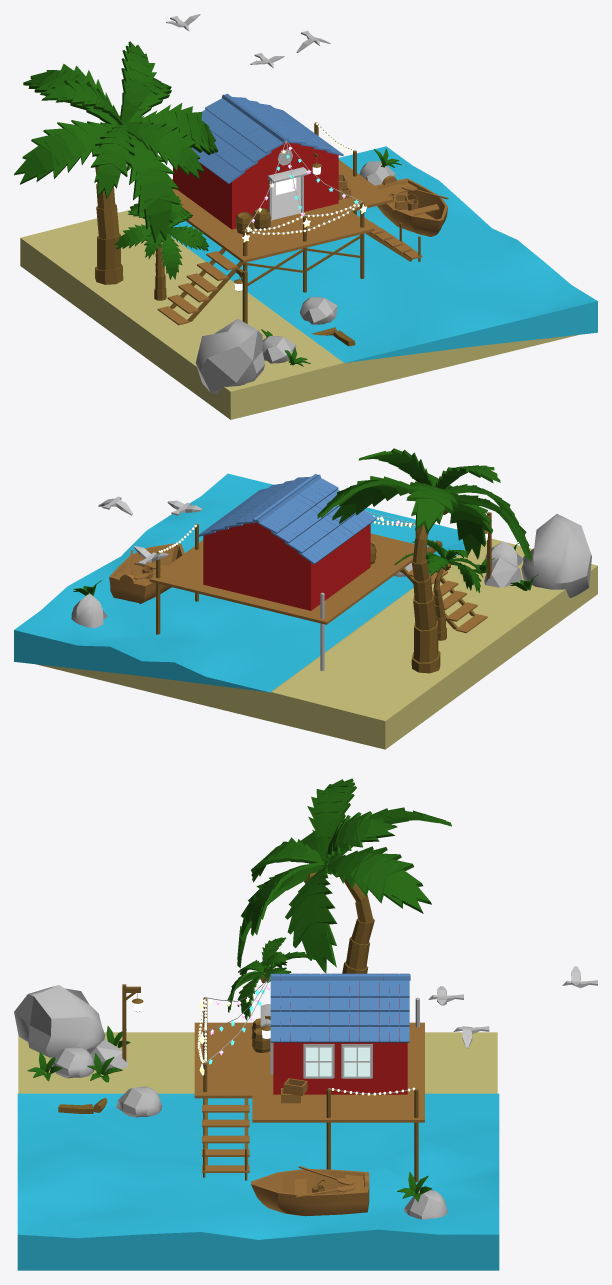
File: beach-house.glb
3 renders of one model, top to bottom at view 1: azimuth 30°, elevation 25°; view 2: azimuth 150°, elevation 25°; view 3: azimuth 270°, elevation 25°, orthographic. The views are drawn at different scales.
Parts seen in each view (by area): view 1: pCube76, floor, highground, house, pPlatonic2, pCube88, pCube86, pCube91, pCylinder27, boat, pCube92, pCube94 (+10 smaller); view 2: pCube76, floor, house, highground, pPlatonic2, pCylinder27, boat, pCube90, pCube86, pCube87, pCube94, pCube88 (+7 smaller); view 3: pCube76, floor, highground, house, pPlatonic2, boat, pCube89, pCube87, pCube93, pCube94, pCylinder27, pCube92 (+11 smaller).
Part boxes in pixels (bbox=[...]): pCube76: bbox=[169, 146, 597, 362]; floor: bbox=[20, 209, 579, 419]; highground: bbox=[172, 159, 393, 262]; house: bbox=[173, 142, 338, 229]; pPlatonic2: bbox=[195, 318, 264, 394]; pCube88: bbox=[14, 120, 116, 184]; pCube86: bbox=[127, 133, 180, 242]; pCube91: bbox=[123, 122, 204, 179]; pCylinder27: bbox=[95, 156, 123, 284]; boat: bbox=[375, 175, 447, 236]; pCube92: bbox=[90, 124, 134, 199]; pCube94: bbox=[120, 41, 156, 123]; pCube76: bbox=[14, 473, 465, 692]; floor: bbox=[36, 538, 597, 749]; house: bbox=[203, 522, 370, 610]; highground: bbox=[149, 533, 428, 624]; pPlatonic2: bbox=[521, 514, 591, 597]; pCylinder27: bbox=[411, 524, 440, 673]; boat: bbox=[109, 543, 184, 604]; pCube90: bbox=[406, 481, 460, 533]; pCube86: bbox=[450, 503, 493, 559]; pCube87: bbox=[332, 476, 413, 523]; pCube94: bbox=[358, 448, 433, 486]; pCube88: bbox=[456, 494, 532, 561]; pCube76: bbox=[17, 1093, 499, 1270]; floor: bbox=[18, 1032, 497, 1093]; highground: bbox=[194, 1022, 424, 1122]; house: bbox=[273, 978, 407, 1094]; pPlatonic2: bbox=[14, 985, 105, 1057]; boat: bbox=[251, 1169, 369, 1216]; pCube89: bbox=[327, 846, 431, 913]; pCube87: bbox=[285, 866, 337, 973]; pCube93: bbox=[307, 778, 356, 863]; pCube94: bbox=[324, 811, 397, 865]; pCylinder27: bbox=[327, 864, 374, 973]; pCube92: bbox=[251, 837, 325, 882].
Bounding box in the file's own units: 0.1463 × 0.0787 × 0.1474.
